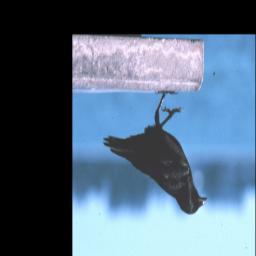Crow: (102, 89, 209, 219)
